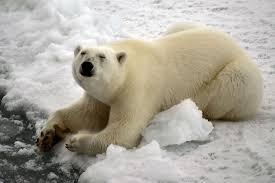PolarBear: (44, 18, 264, 149)
